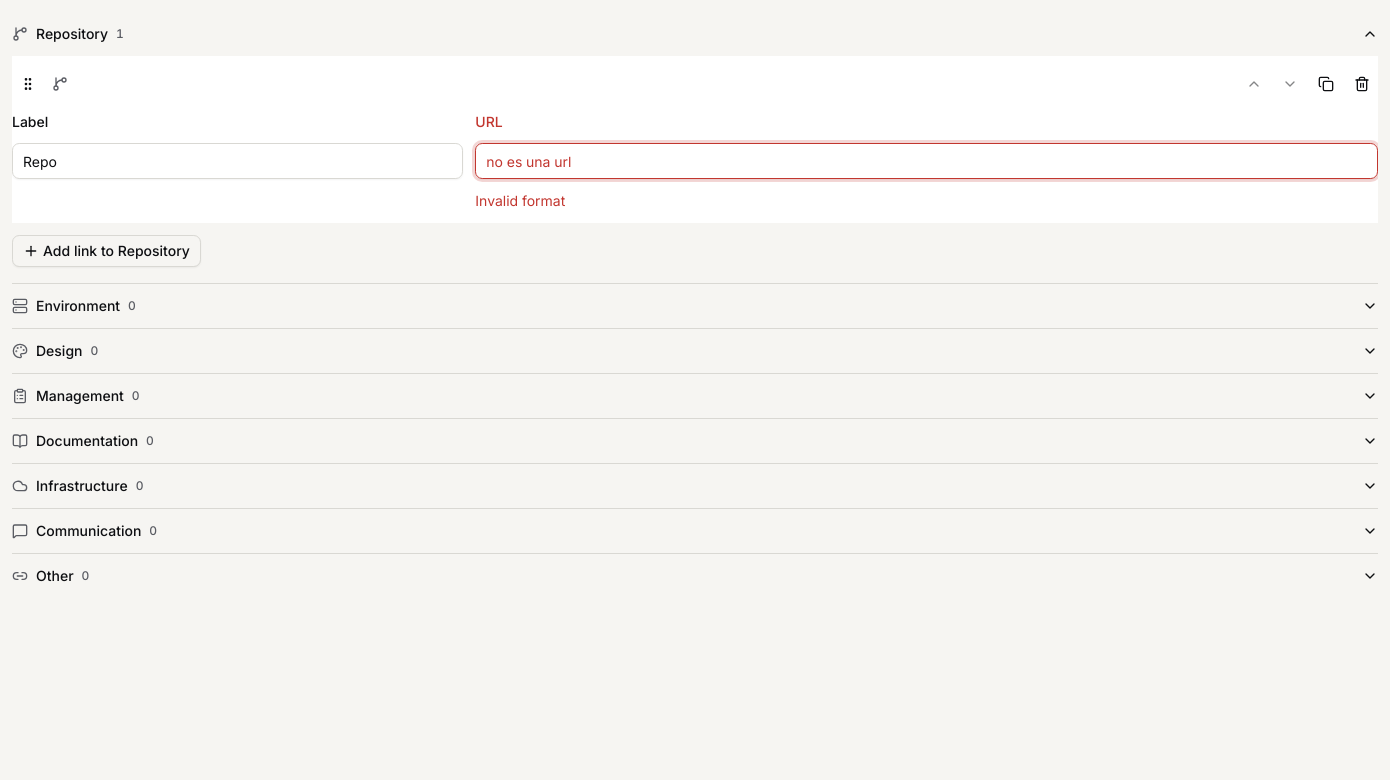
Test: ProjectLinksEditor › shows the field error on an invalid URL and clears it once the URL is valid (HU-07 CA3)
Check: the text "Invalid format" is shown, box [475, 192, 565, 209]
Replace the text in the field labelled "URL" with "https://example.com" at (927, 161), box [475, 143, 1378, 179]
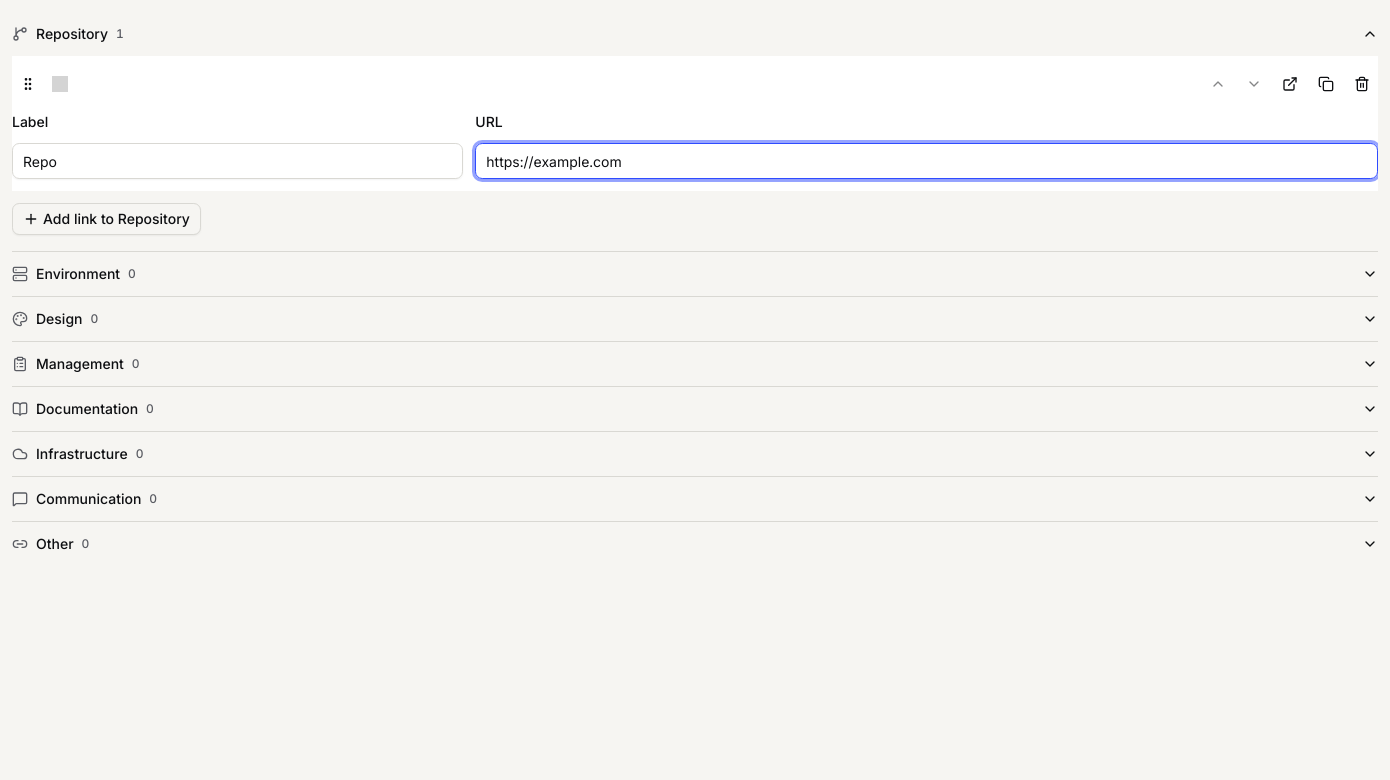
Check: the text "Invalid format" is gone
